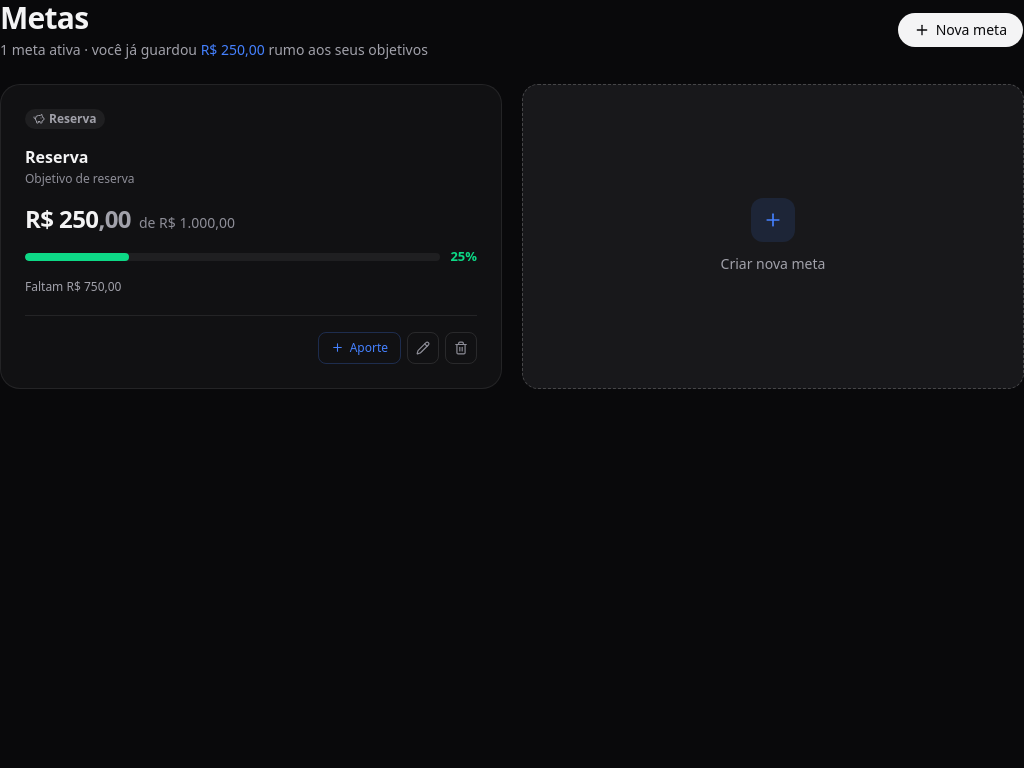
Test case: Goals › edita nome e valor da meta pelo dialog de edição
Click the button named "editar meta" at (423, 348), box [407,332,439,364]
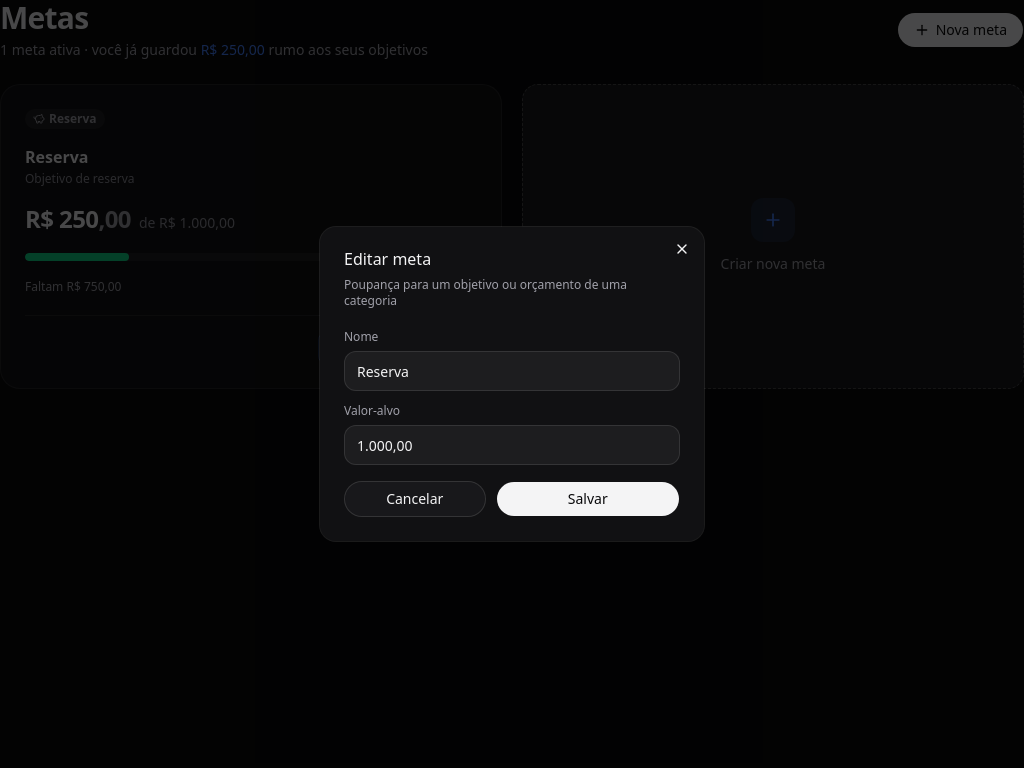
Expected: the dialog is shown, [320,227,704,541]
Replace the text in the field labelled "Nome" with "Reserva nova" at (512, 371), box [344,351,680,391]
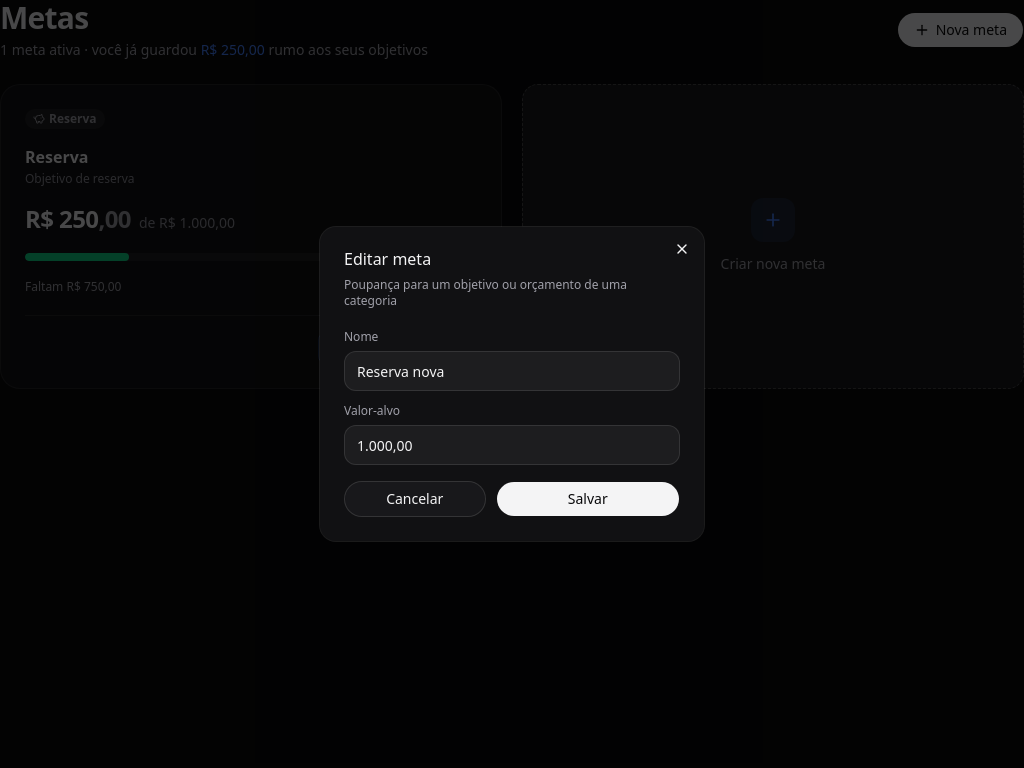
Click the button "Salvar" at (588, 499), box [496,481,680,517]
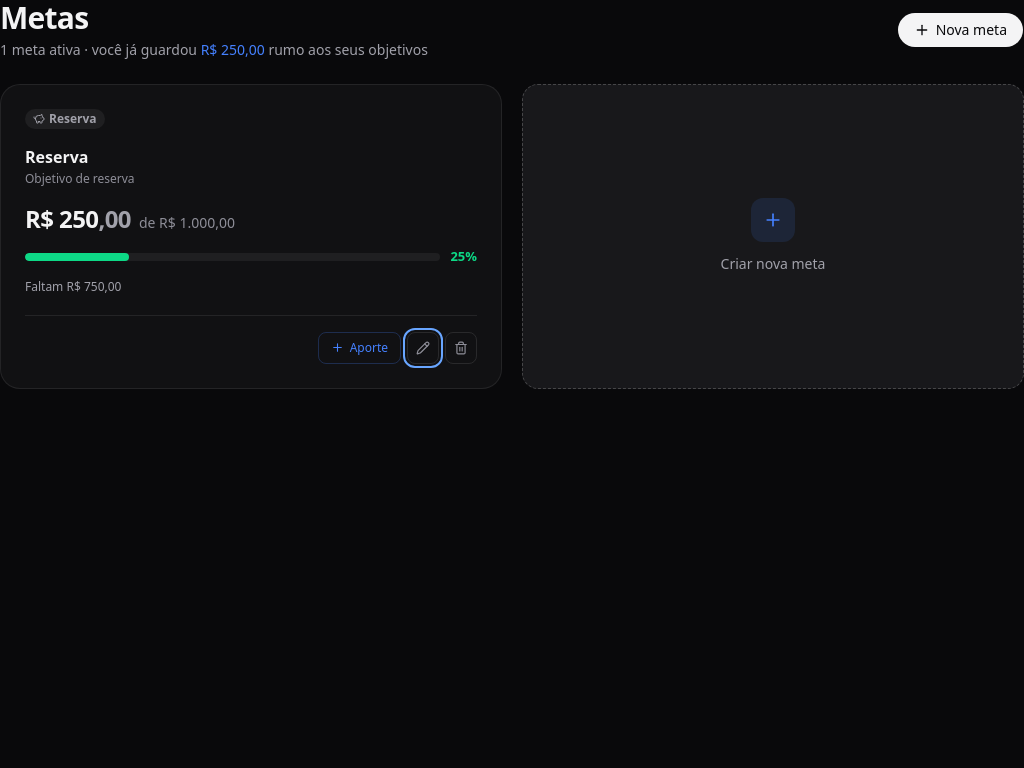
Expected: the dialog is gone
